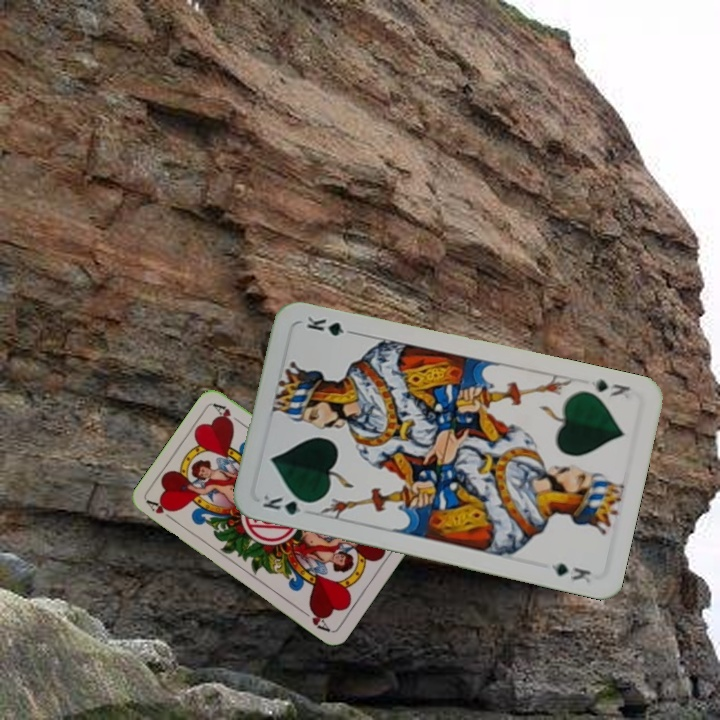GK: (258, 491, 316, 518), (586, 375, 633, 400)
HA: (143, 496, 179, 525)
